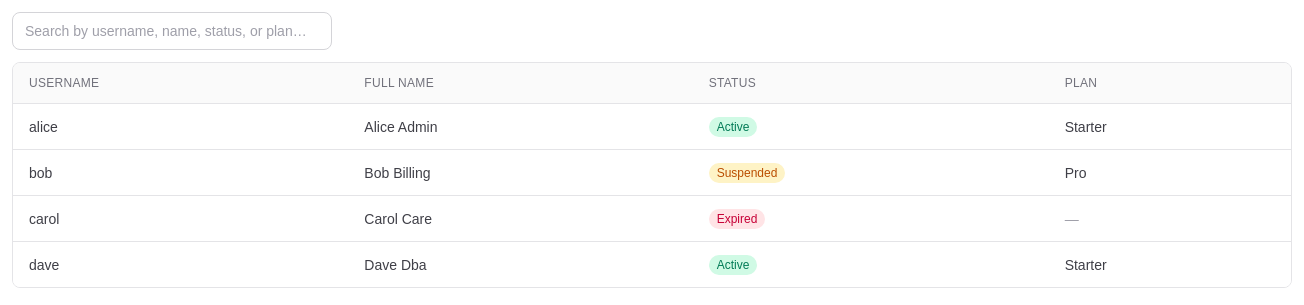
SubscribersTable › shows a no-match message when the search excludes every row
This screenshot has width=1304, height=305.
In the search field named "Search subscribers": (172, 31) [12, 12, 332, 50], type "zzz-nonexistent"
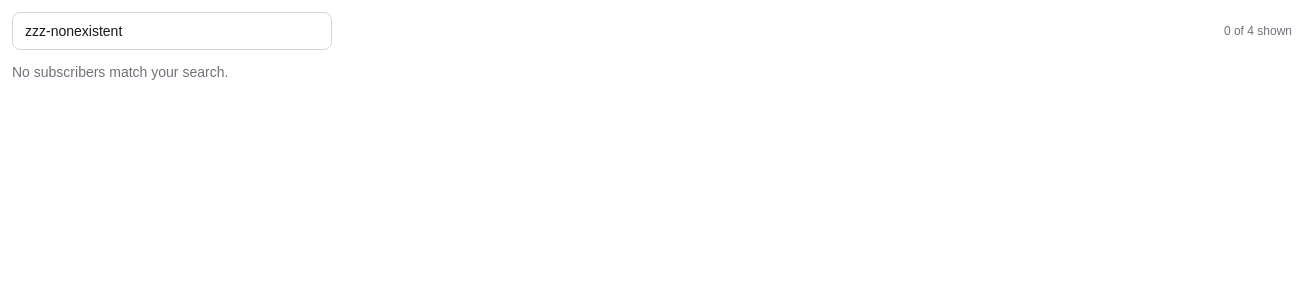
Expected: the text "No subscribers match your search." is shown, [12, 64, 228, 80]
Expected: the table is gone
